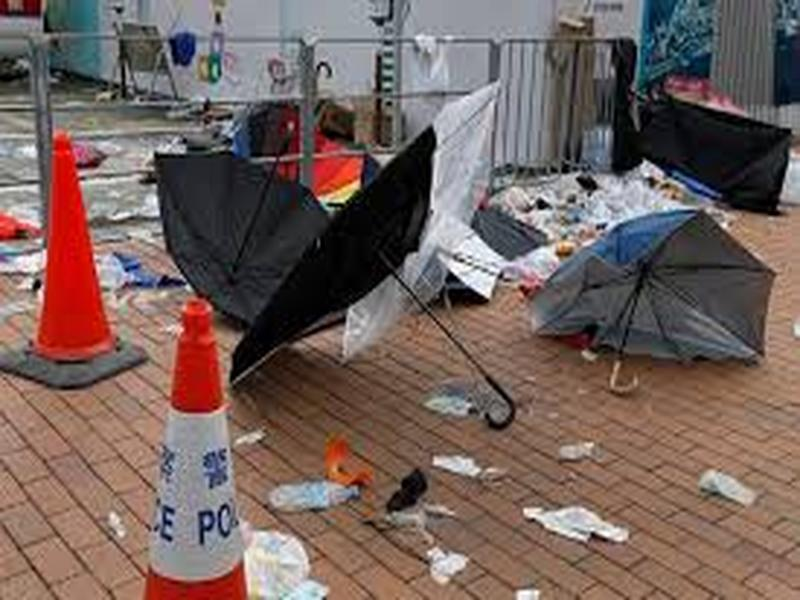Cone: (1, 130, 151, 393)
